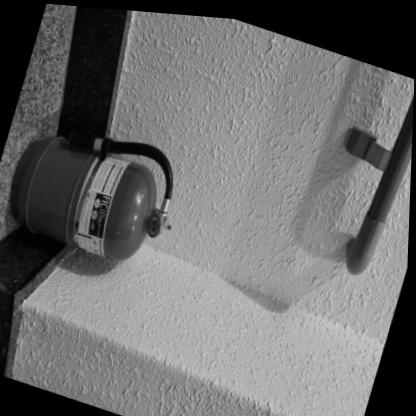FE: (0, 99, 188, 278)
